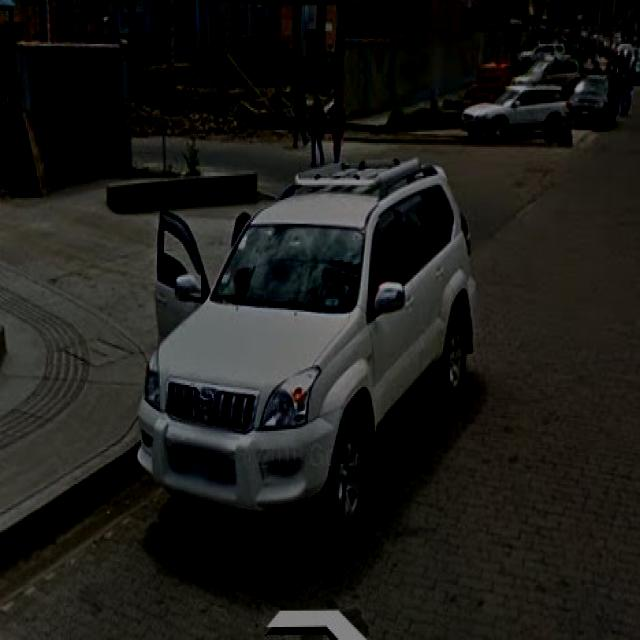car: (150, 158, 474, 565)
